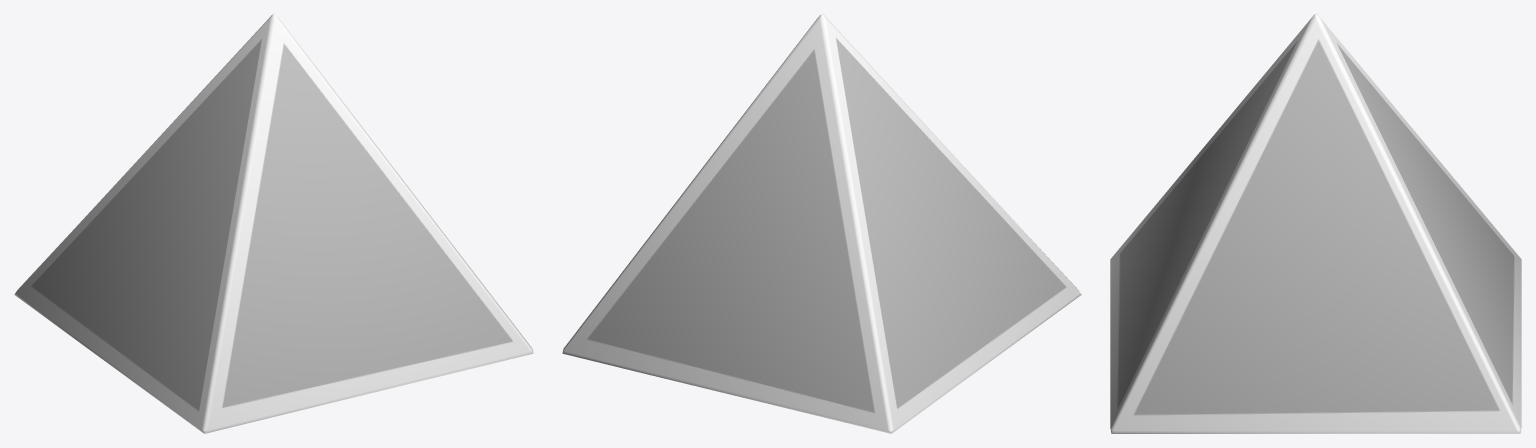
The model's file is Crystal.glb.
The picture shows the model from 3 angles, left to right: view 1: azimuth 30°, elevation 25°; view 2: azimuth 150°, elevation 25°; view 3: azimuth 270°, elevation 25°; orthographic projection. The views are drawn at different scales.
Parts seen in each view (by area): view 1: Crystal 2; view 2: Crystal 2; view 3: Crystal 2.
Boxes of the visible parts, bbox=[...] form: Crystal 2: bbox=[14, 14, 533, 433]; Crystal 2: bbox=[562, 14, 1081, 433]; Crystal 2: bbox=[1110, 14, 1521, 433].
Size of the model in its own units: 0.4755 by 0.4251 by 0.4755.
Materials: 1 (1 with a texture image).
